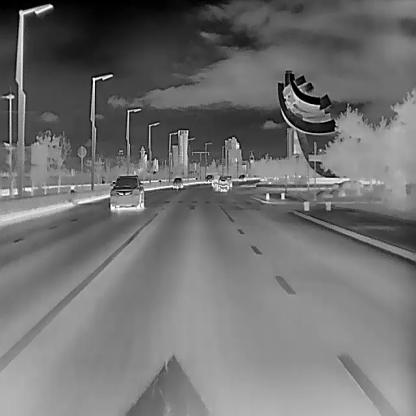car: (110, 175, 143, 212), (216, 174, 230, 192), (212, 175, 224, 191), (172, 176, 182, 188), (204, 173, 214, 182), (238, 172, 246, 182)
